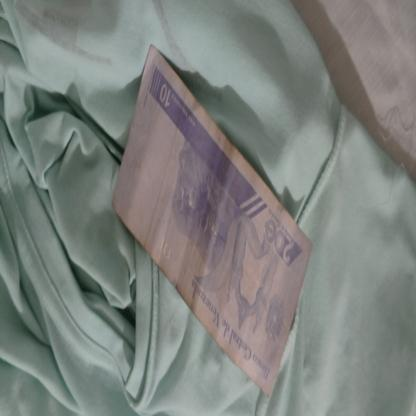ten-back-vef: (112, 44, 312, 398)
